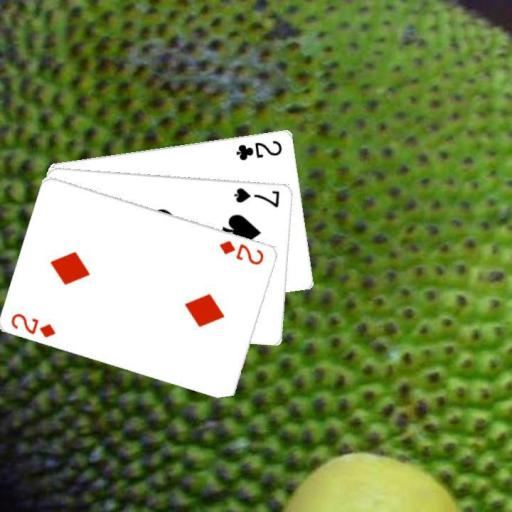2C: (233, 137, 284, 162)
2D: (8, 310, 58, 340), (216, 237, 266, 266)
7S: (231, 185, 282, 209)
